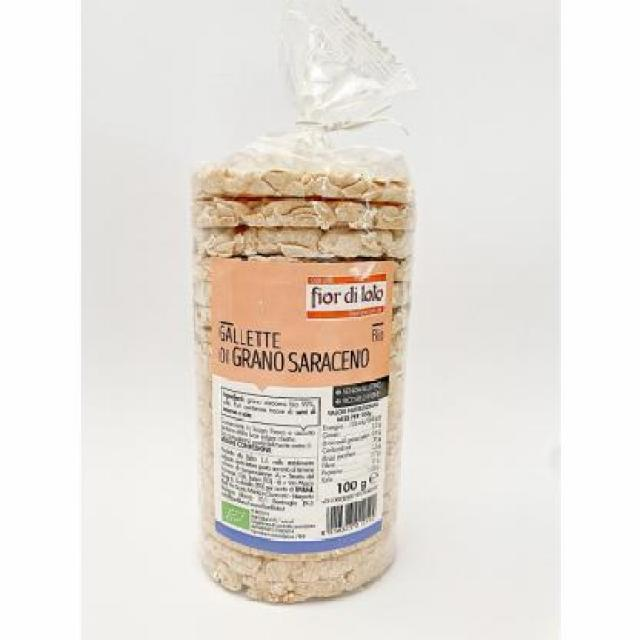Gallette di riso: (188, 6, 424, 608)
